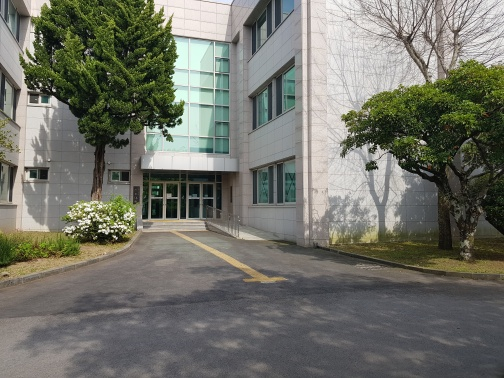College of Nursing: (13, 10, 435, 245)
